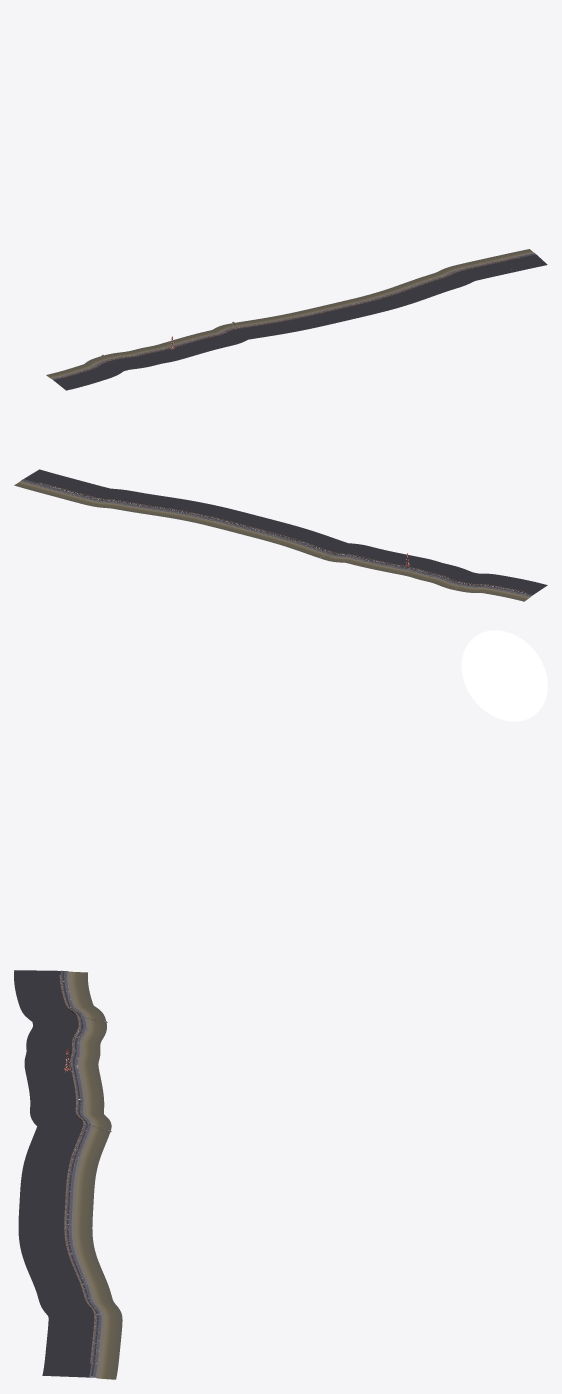
The model's file is blackpool.glb.
The picture shows the model from 3 angles, top to bottom: view 1: azimuth 30°, elevation 25°; view 2: azimuth 150°, elevation 25°; view 3: azimuth 270°, elevation 25°; orthographic projection. The views are drawn at different scales.
Visible parts, largest first — view 1: Land_008, Land_004, Land_005; view 2: Land_008, Land_004, Land_005, Land_000, Land_016, Land_001, Land_011, Land_015, Land_012, Land_010, Land_017, Land_014 (+13 smaller); view 3: Sun, Land_008, Land_004, Land_005, Land_016, Land_000, Land_012, Land_011, Land_015, Land_001, Land_017, Land_013 (+13 smaller).
Boxes of the visible parts, x1,y1,x2,y2 form: Land_008: [200, 329, 248, 347]; Land_004: [123, 348, 160, 368]; Land_005: [141, 344, 184, 363]; Land_008: [342, 543, 379, 565]; Land_004: [420, 563, 467, 584]; Land_005: [401, 557, 442, 579]; Land_000: [505, 579, 547, 601]; Land_016: [178, 501, 218, 523]; Land_001: [485, 575, 523, 596]; Land_011: [278, 528, 323, 549]; Land_015: [198, 506, 240, 528]; Land_012: [259, 522, 302, 543]; Land_010: [296, 534, 341, 556]; Land_017: [157, 497, 195, 519]; Land_014: [218, 511, 261, 533]; Sun: [461, 630, 547, 721]; Land_008: [30, 1101, 105, 1127]; Land_004: [26, 1031, 101, 1054]; Land_005: [24, 1050, 100, 1070]; Land_016: [18, 1233, 95, 1253]; Land_000: [14, 970, 88, 988]; Land_012: [20, 1165, 96, 1186]; Land_011: [23, 1148, 101, 1170]; Land_015: [18, 1216, 92, 1235]; Land_001: [15, 986, 92, 1006]; Land_017: [22, 1250, 100, 1271]; Land_013: [19, 1183, 94, 1202].
Size of what is drawn, in the model's own units: 5880 by 2800 by 3249.
